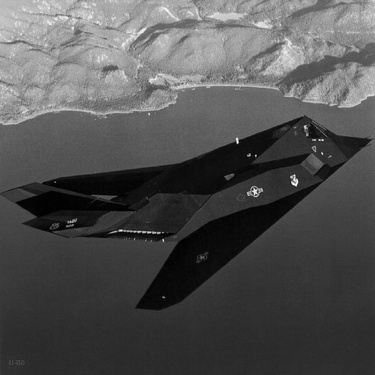airplane: (13, 106, 365, 305)
